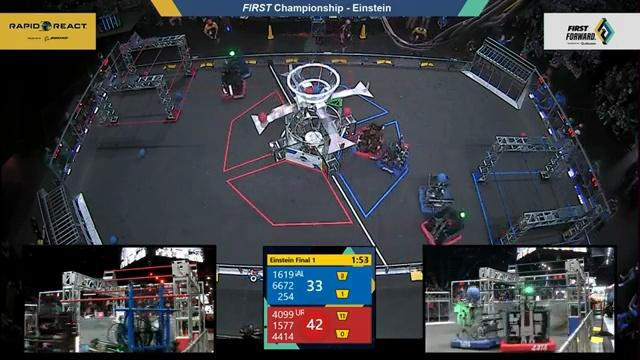robot: (409, 173, 457, 217), (417, 205, 469, 245), (351, 115, 390, 163), (376, 135, 415, 180), (215, 40, 256, 78), (214, 66, 247, 103)
